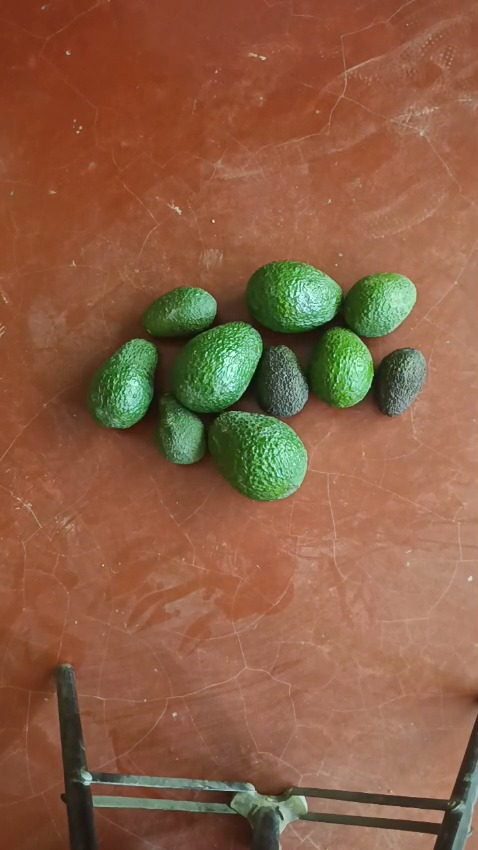Primera: (209, 411, 308, 499), (171, 322, 264, 413), (306, 327, 373, 409)
Segunda: (246, 260, 343, 333), (87, 338, 159, 429)
Tercera: (341, 273, 416, 339), (254, 343, 309, 418), (143, 287, 217, 339), (374, 347, 427, 417), (156, 394, 206, 463)
